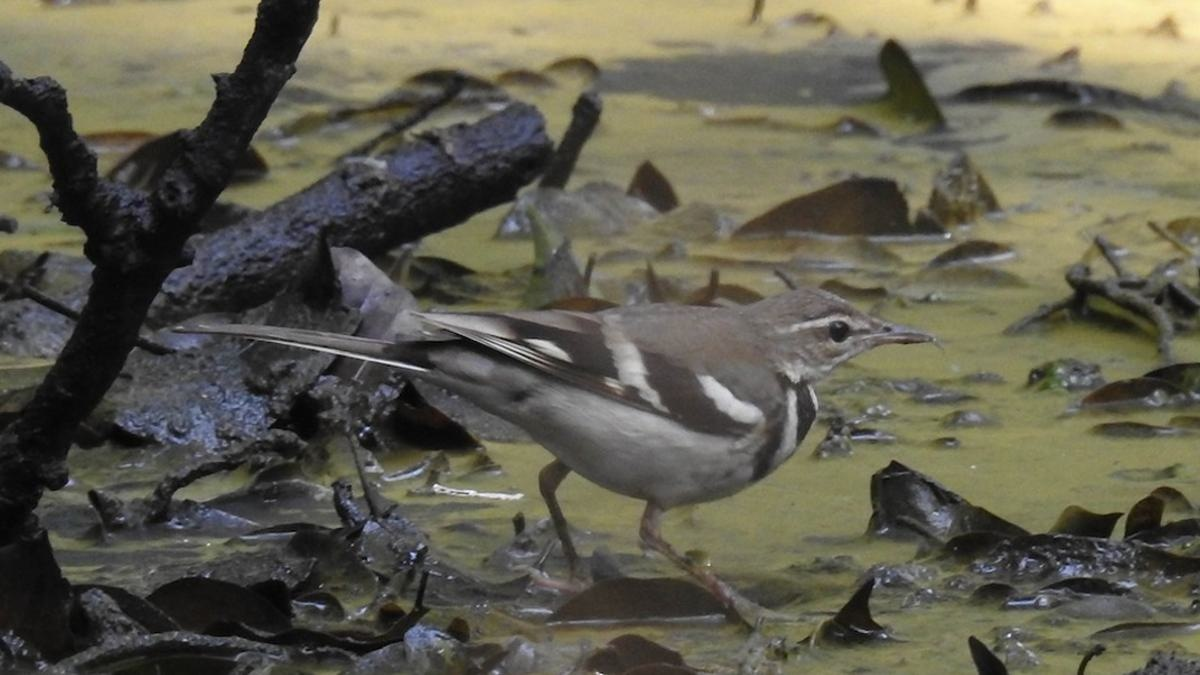wagtail: (205, 294, 940, 520)
